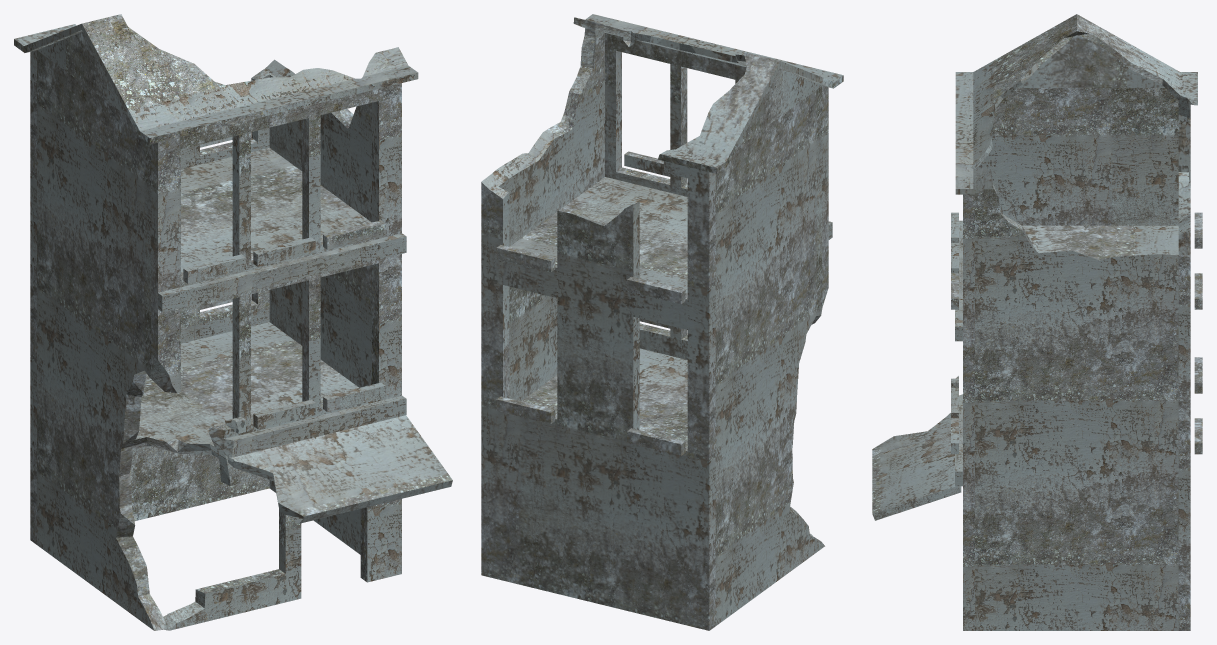
File: nha xa 1_2.fbx
The picture shows the model from 3 angles, left to right: view 1: azimuth 30°, elevation 25°; view 2: azimuth 150°, elevation 25°; view 3: azimuth 270°, elevation 25°; orthographic projection. The views are drawn at different scales.
Parts seen in each view (by area): view 1: cube.038, cube.020, cube.040, cube.022, cube.032, cube.023, cube.037, cube.039, cube.025, cube.024, cube.027, cube.029 (+3 smaller); view 2: cube.023, cube.038, cube.022, cube.020, cube.040, cube.039, cube.037, cube.034, cube.033, cube.035, cube.036, cube.031; view 3: cube.022, cube.038, cube.040, cube.023, cube.032, cube.020, cube.039, cube.025, cube.024.
Part boxes in pixels (x1,y1,x2,y2): cube.038: (37,32,162,628); cube.020: (151,83,401,630); cube.040: (14,14,418,144); cube.022: (269,64,371,554); cube.032: (227,415,452,523); cube.023: (30,50,280,544); cube.037: (133,322,358,457); cube.039: (181,147,371,272); cube.025: (158,233,406,312); cube.024: (222,395,406,457); cube.027: (253,399,315,428); cube.029: (183,254,245,283); cube.023: (481,161,715,630); cube.038: (715,68,822,625); cube.022: (488,26,604,401); cube.020: (605,33,828,547); cube.040: (573,14,843,173); cube.039: (509,177,687,293); cube.037: (521,348,687,444); cube.034: (496,396,555,423); cube.033: (496,245,555,272); cube.035: (627,428,685,455); cube.036: (627,276,685,304); cube.031: (624,151,670,176); cube.022: (975,176,1178,630); cube.038: (976,35,1178,225); cube.040: (955,14,1197,194); cube.023: (1178,101,1190,630); cube.032: (872,413,961,520); cube.020: (963,194,974,630); cube.039: (1022,225,1178,259); cube.025: (955,220,962,341); cube.024: (955,394,962,486).
Bounding box in the file's own units: 433 × 873 × 517.
Materials: 1 (1 with a texture image).
